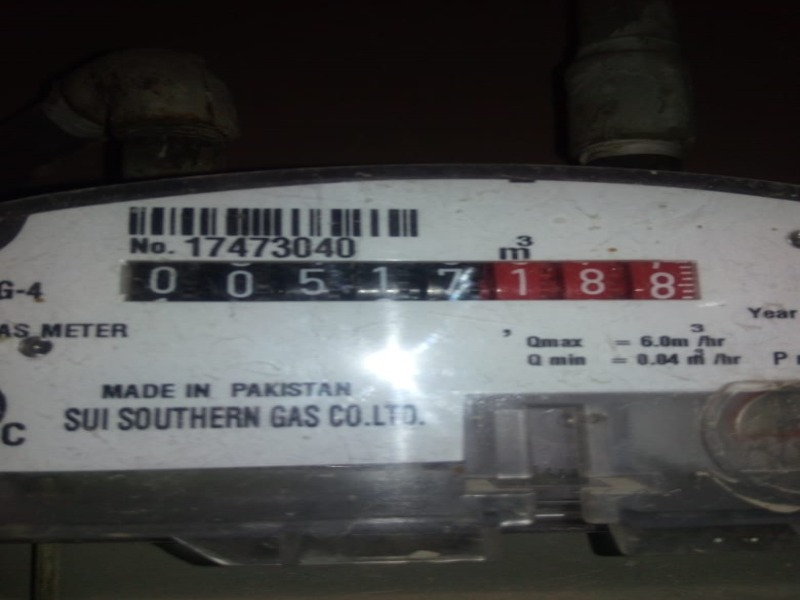ssgc: (117, 255, 702, 311)
